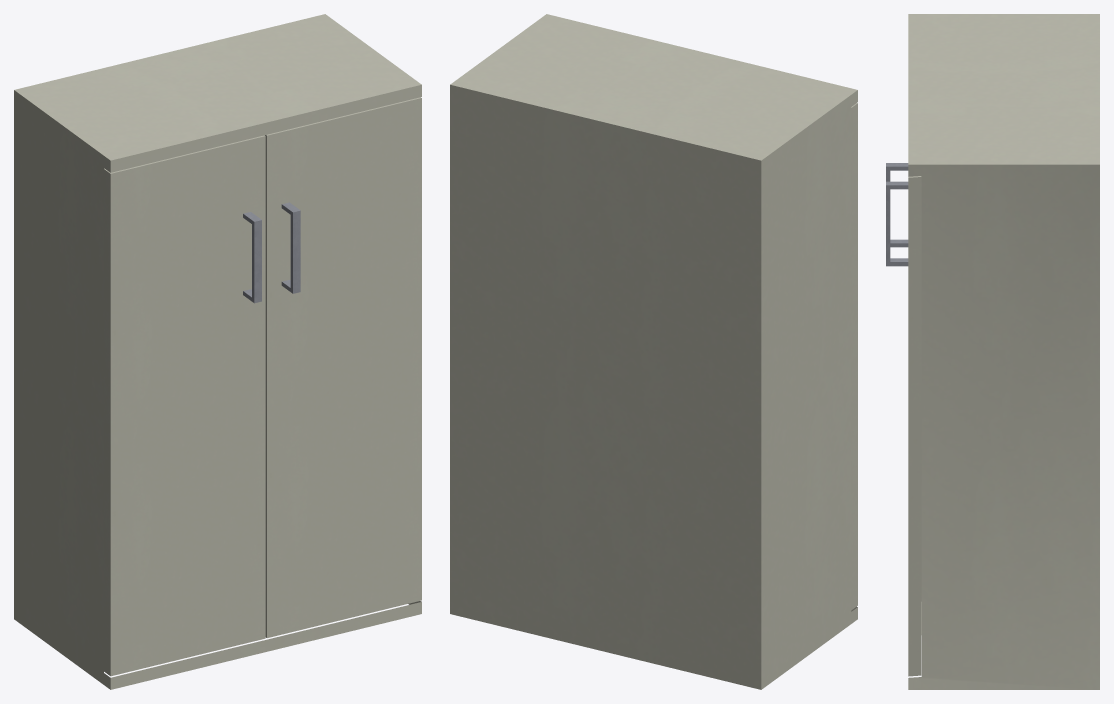
File: LGSeocho25OfficeCabinetWide.fbx
3 renders of one model, left to right at view 1: azimuth 30°, elevation 25°; view 2: azimuth 150°, elevation 25°; view 3: azimuth 270°, elevation 25°, orthographic.
Visible parts, largest first — view 1: LGSeocho25Plastic, LGSeocho25Metal; view 2: LGSeocho25Plastic; view 3: LGSeocho25Plastic, LGSeocho25Metal.
Boxes of the visible parts, x1,y1,x2,y2 form: LGSeocho25Plastic: (14, 14, 421, 689); LGSeocho25Metal: (243, 202, 300, 303); LGSeocho25Plastic: (450, 14, 857, 689); LGSeocho25Plastic: (908, 14, 1099, 689); LGSeocho25Metal: (886, 163, 908, 266).
Size of the model in its own units: 80 by 130 by 47.99.
